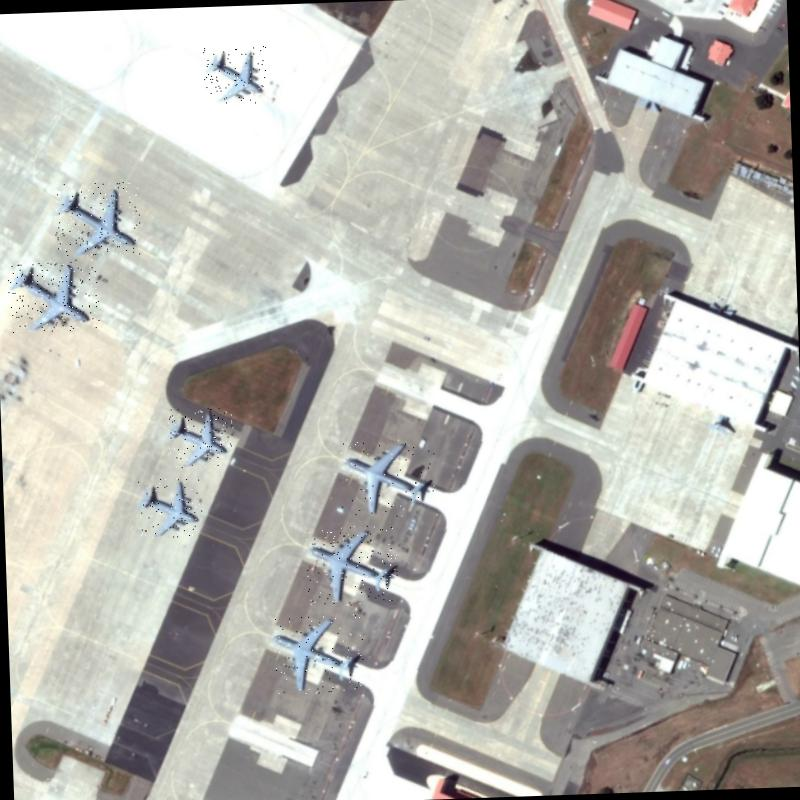A3: (166, 407, 234, 468), (136, 476, 202, 538), (202, 46, 268, 104)
A4: (339, 437, 437, 518), (305, 524, 398, 606), (270, 614, 364, 694), (7, 258, 99, 332), (53, 181, 141, 258)
